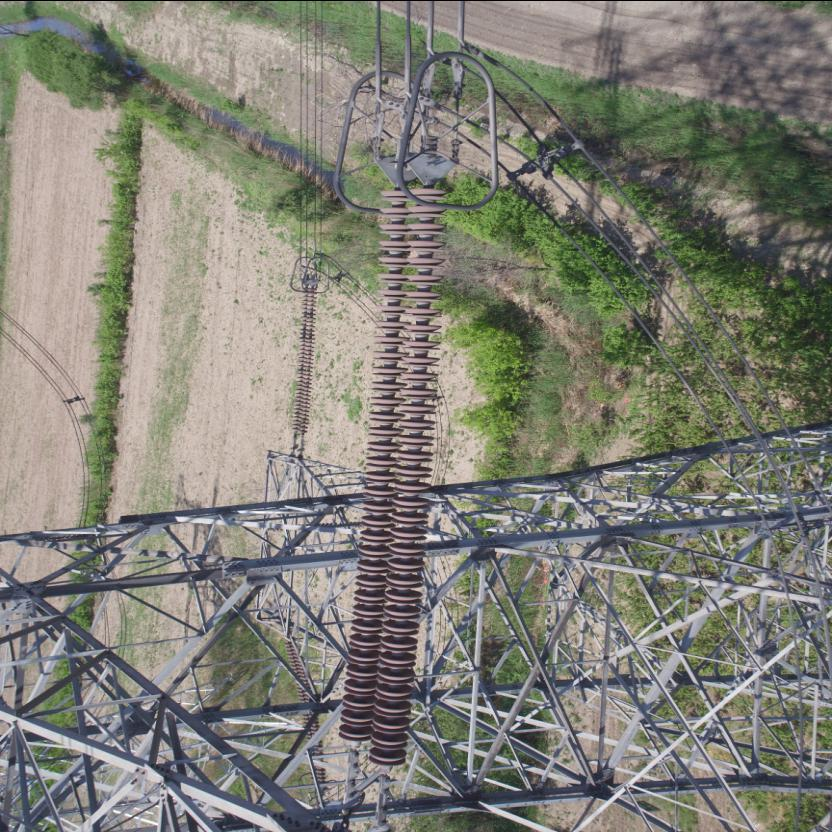insulator: (333, 176, 451, 792), (289, 290, 318, 442)
